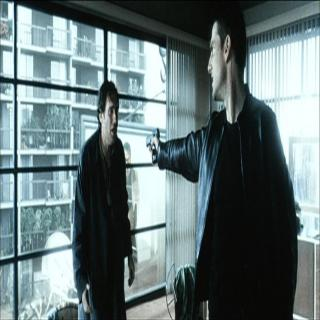gun: (144, 128, 163, 167)
